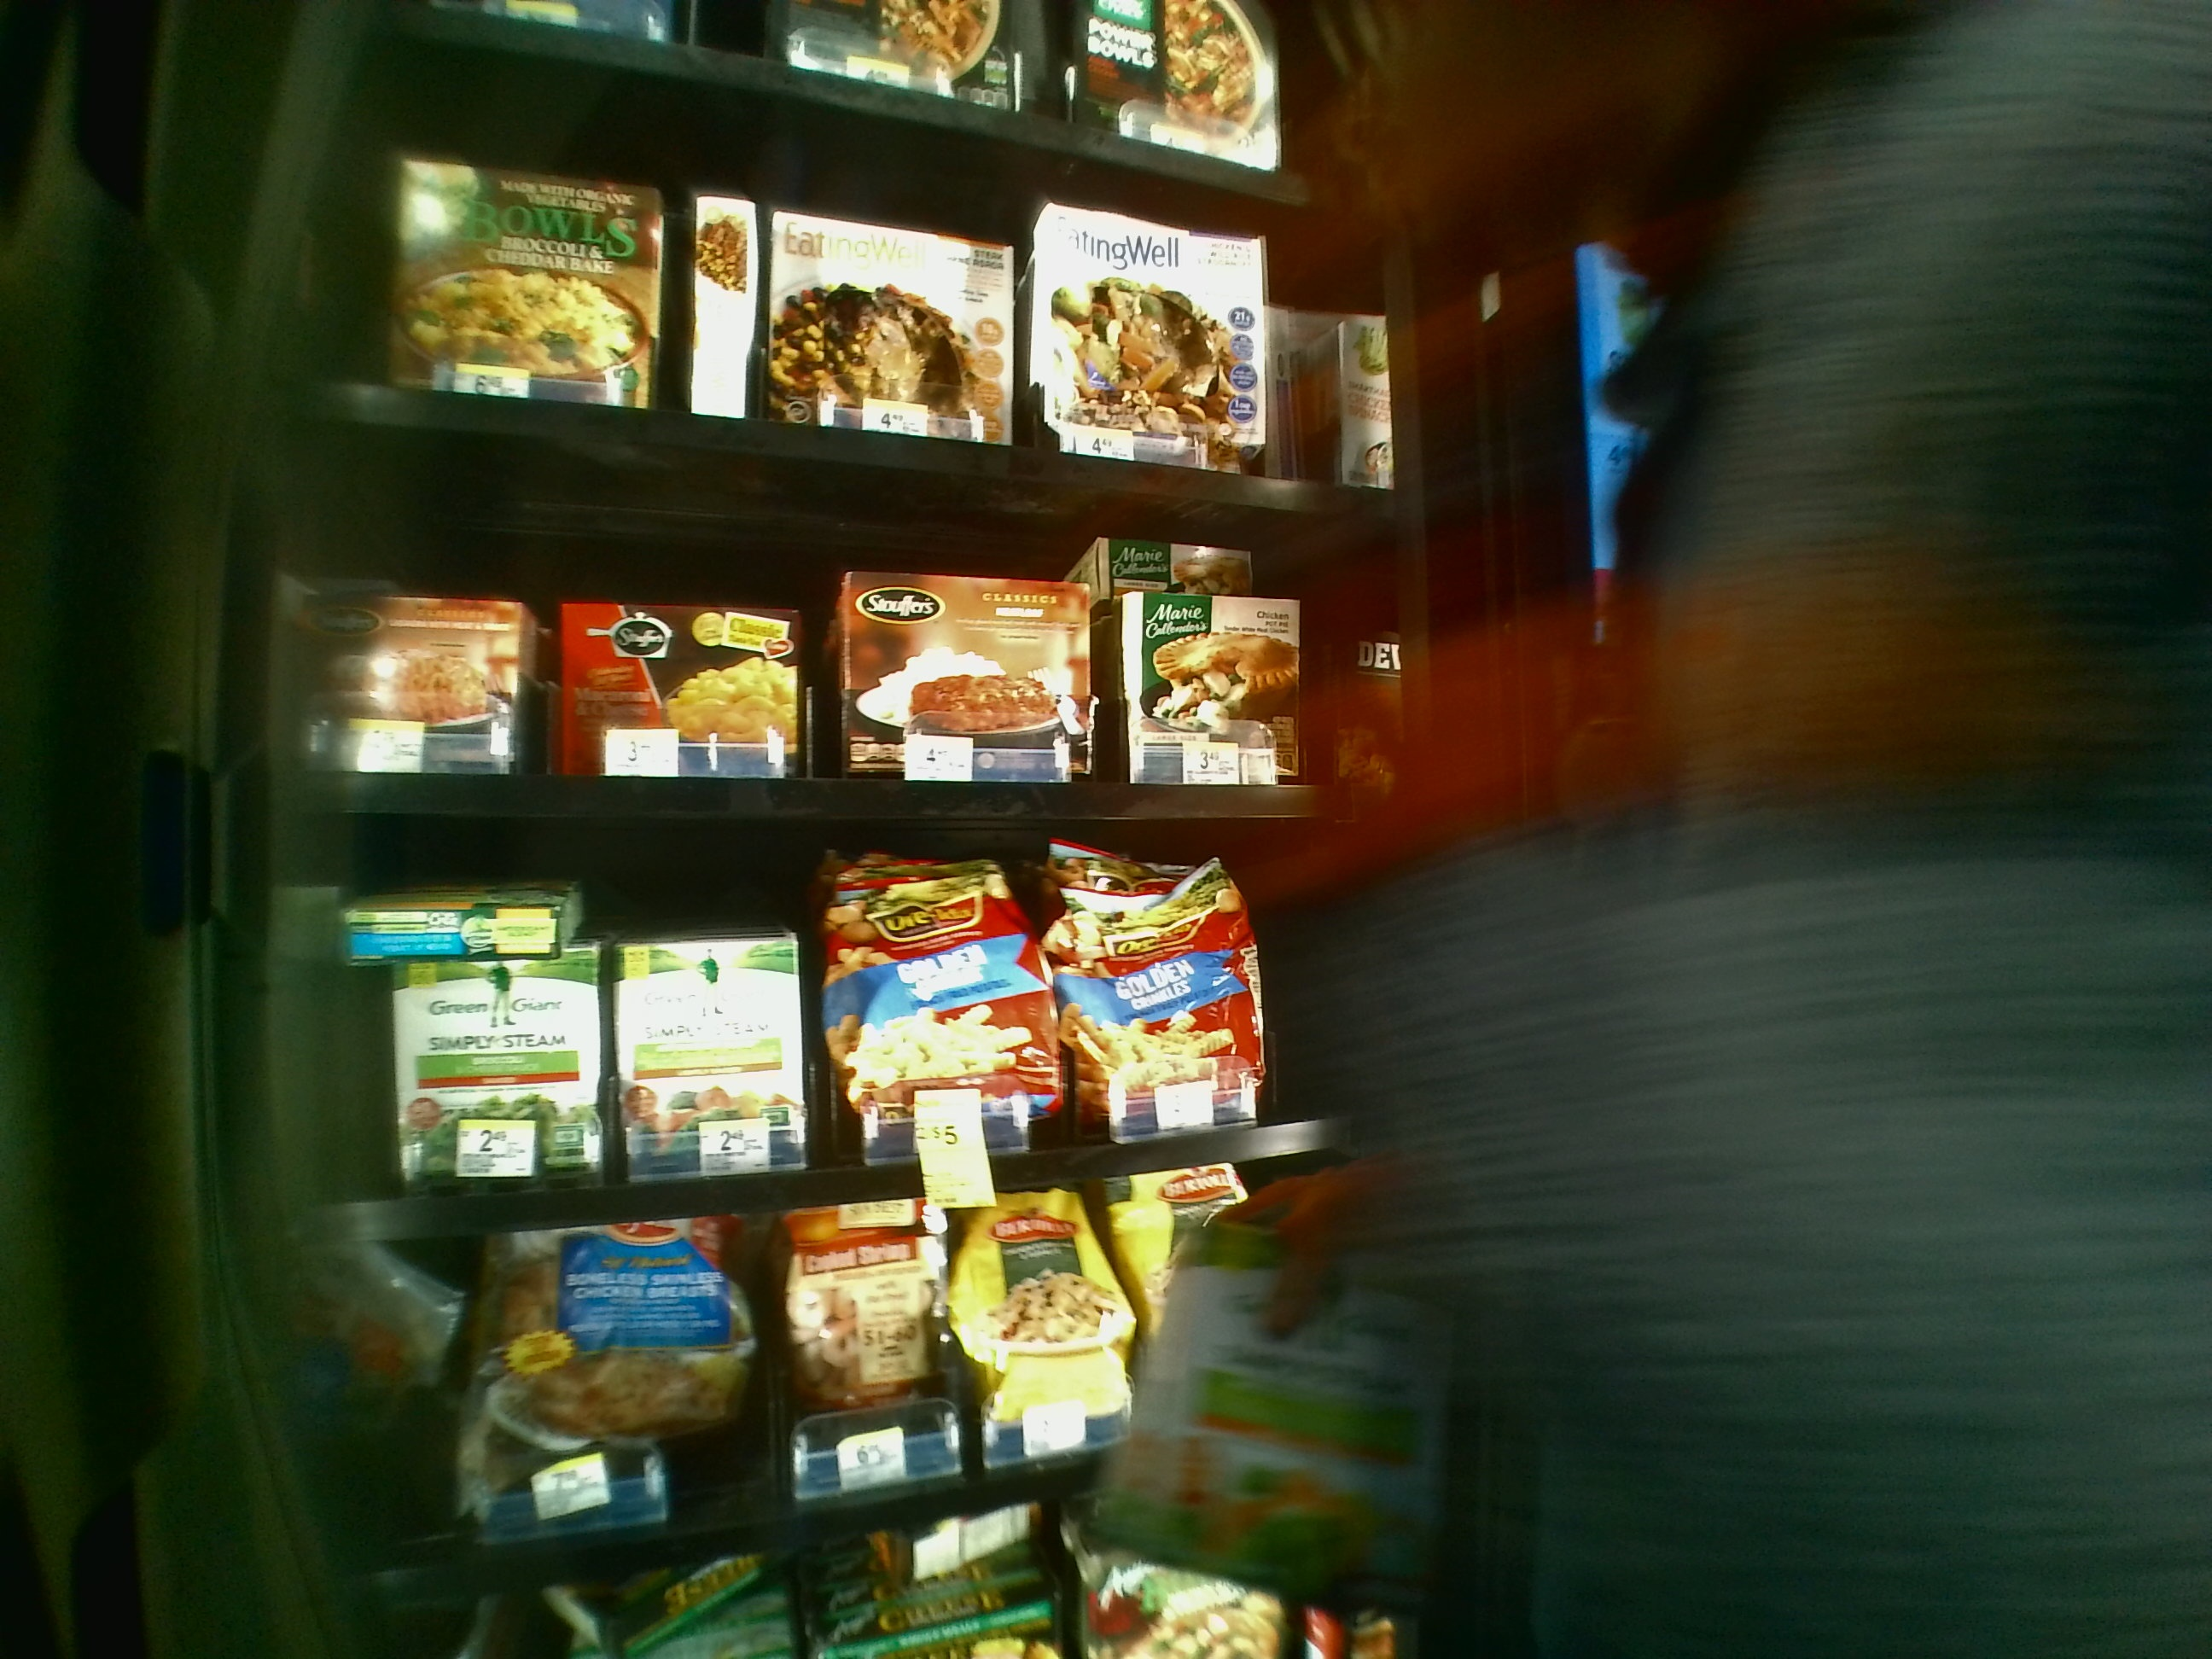shelf: (289, 828, 1404, 1244), (286, 420, 1406, 812)
